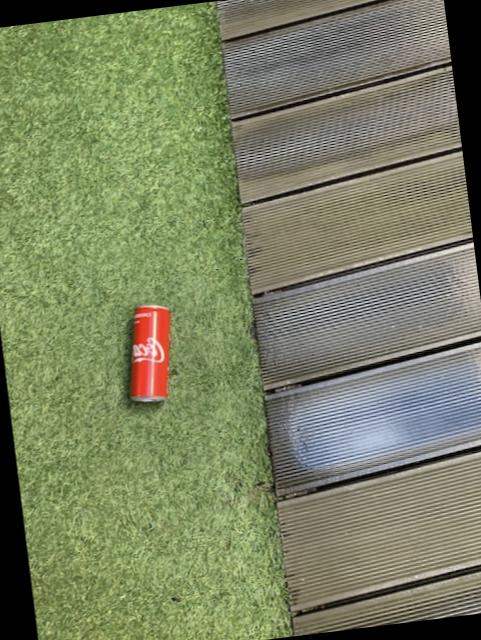metal: (131, 303, 170, 399)
